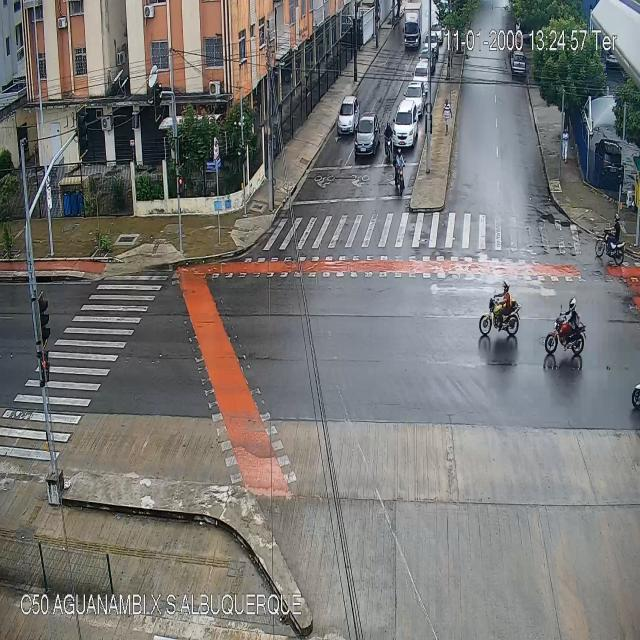Car: (354, 115, 380, 156), (396, 102, 419, 146), (337, 95, 358, 132), (405, 80, 425, 116), (419, 48, 435, 78), (414, 60, 427, 89), (511, 52, 525, 78), (428, 24, 443, 44), (426, 34, 438, 56)
Motorcycle: (546, 299, 586, 358), (478, 282, 518, 338), (596, 214, 623, 266), (394, 148, 404, 197), (384, 122, 393, 159)
Truck: (402, 4, 422, 48)
